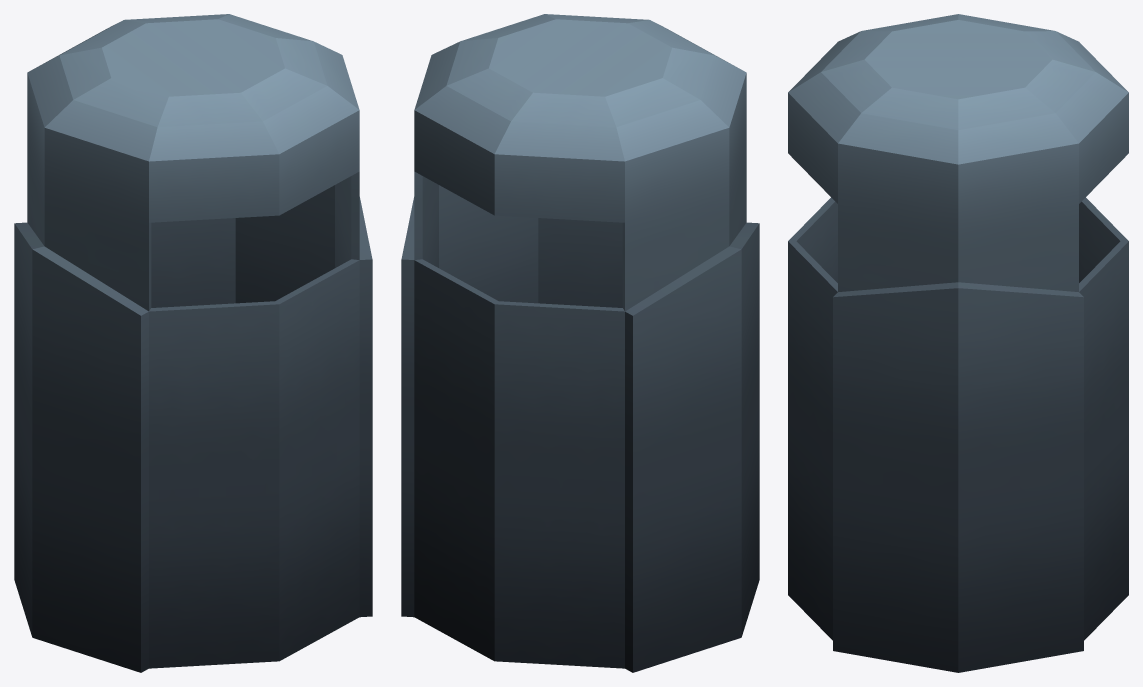
The model's file is Bin_FBX.fbx.
The picture shows the model from 3 angles, left to right: view 1: azimuth 30°, elevation 25°; view 2: azimuth 150°, elevation 25°; view 3: azimuth 270°, elevation 25°; orthographic projection.
Visible parts, largest first — view 1: pCylinder40; view 2: pCylinder40; view 3: pCylinder40.
Part boxes in pixels (bbox=[...]): pCylinder40: bbox=[14, 14, 372, 672]; pCylinder40: bbox=[401, 14, 759, 672]; pCylinder40: bbox=[788, 14, 1128, 672].
Bounding box in the file's own units: 71.6 × 115 × 66.19.
